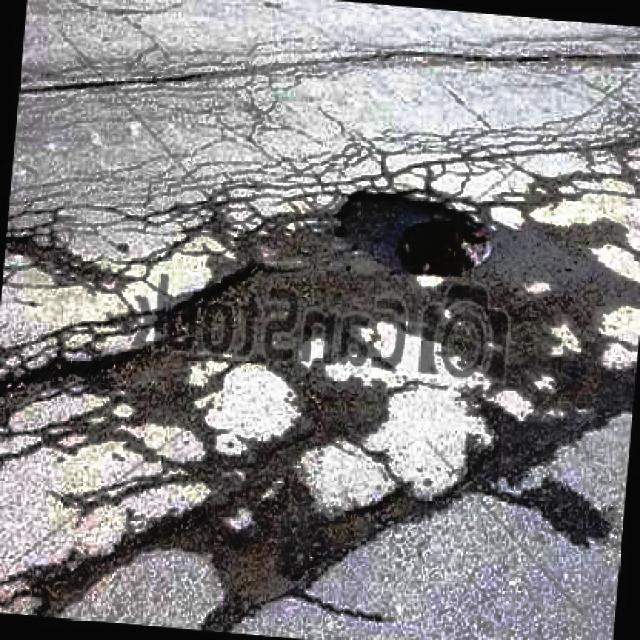pothole: (9, 494, 418, 632), (0, 264, 302, 422), (460, 362, 629, 489), (334, 183, 501, 288)
